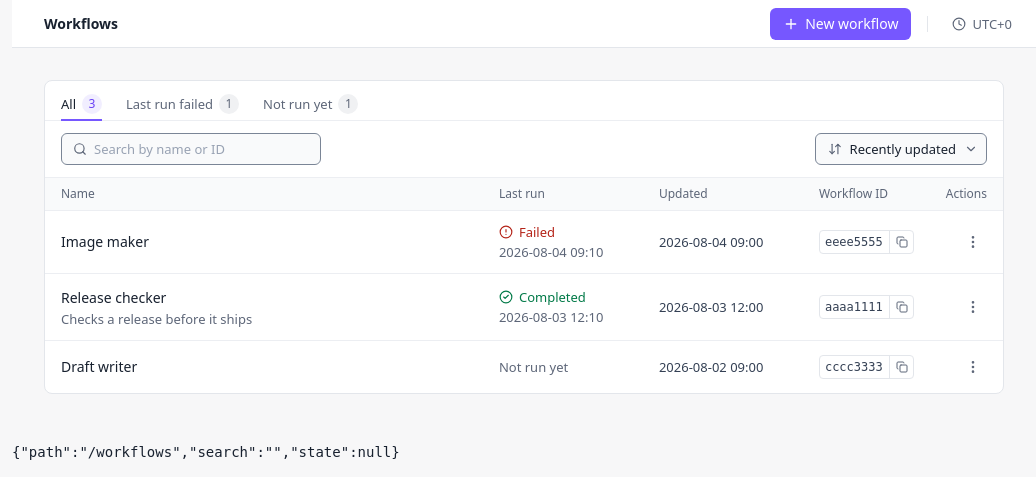
it: WorkflowsPage row menu and Run dialog › lists Run, Edit and Runs
Click the button named "Actions for Release checker": [973, 306] box [959,292,987,320]
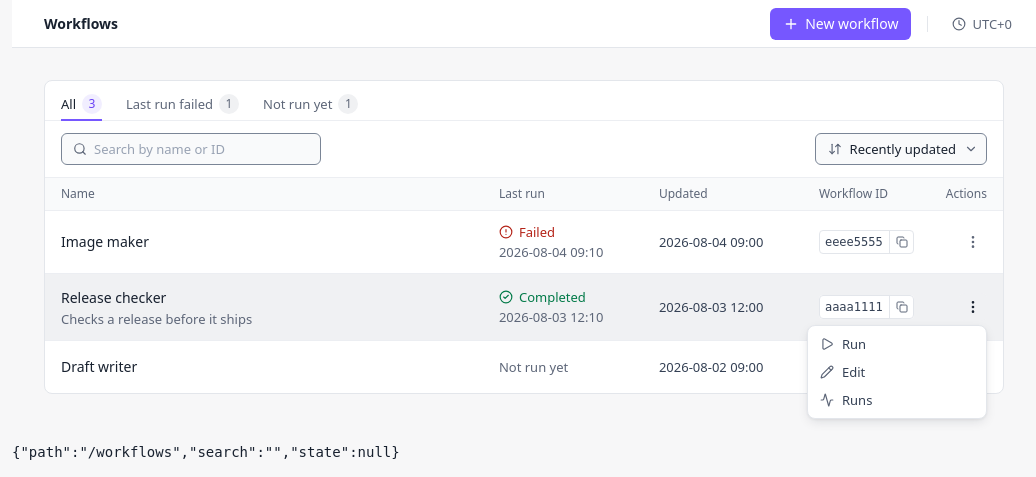
Expected: the menu items read "Run", "Edit", "Runs", in this order, [820,335,866,353]; [820,363,865,381]; [820,391,872,409]
